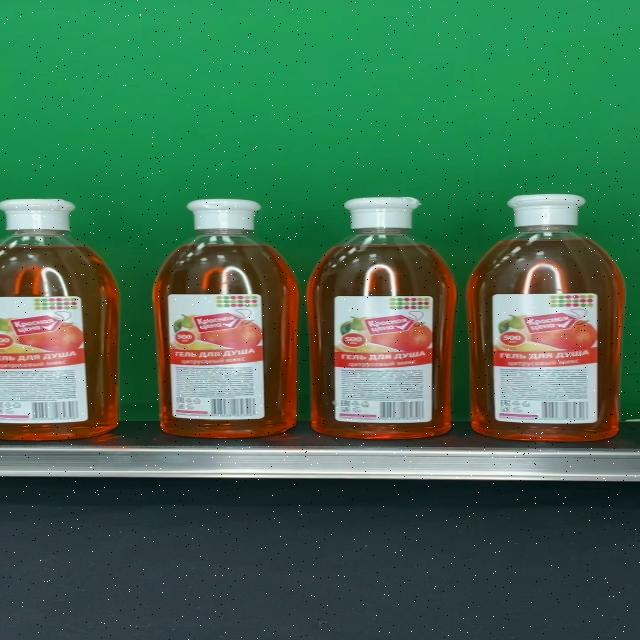Bottle: (464, 194, 625, 442), (306, 196, 457, 439), (151, 198, 299, 438), (0, 198, 119, 440)
Cap: (342, 195, 422, 229), (506, 194, 586, 226), (0, 198, 76, 231), (187, 198, 261, 230)
